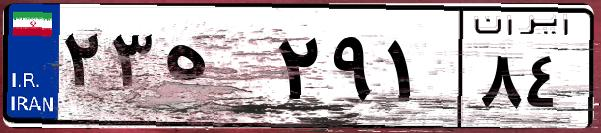1: (385, 28, 445, 110)
2: (270, 28, 330, 110), (57, 26, 110, 100)
3: (110, 28, 158, 98)
4: (525, 38, 570, 115)
8: (475, 38, 525, 113)
9: (330, 28, 385, 110)
ه: (158, 20, 270, 120)
